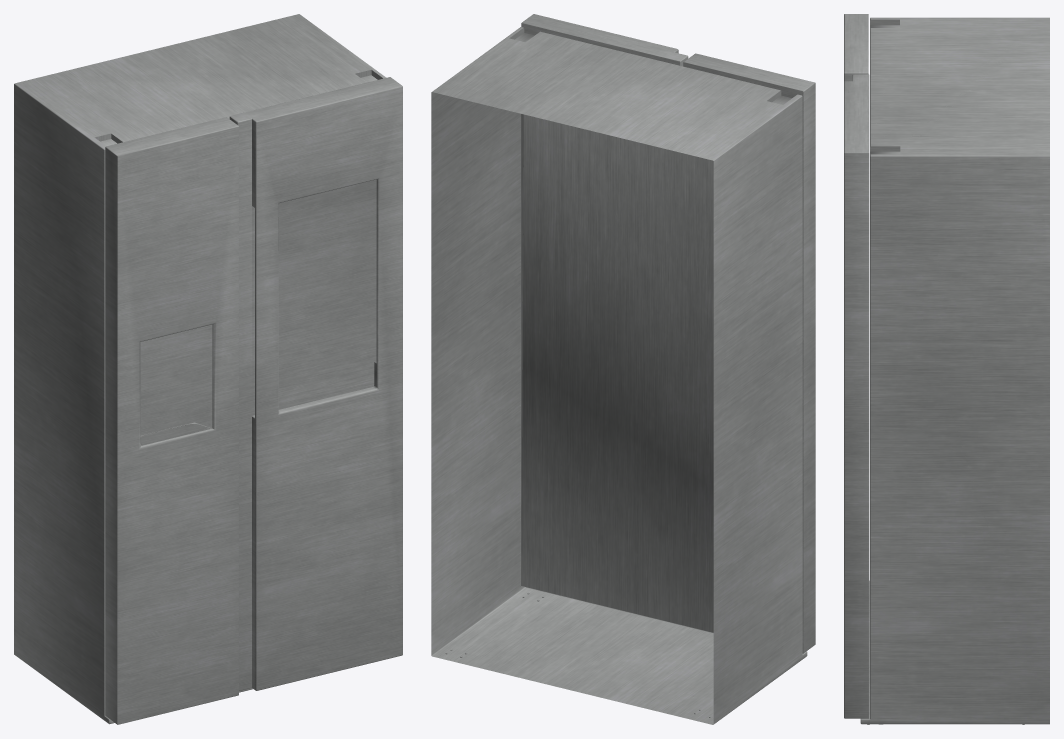
File: fridge.obj
3 renders of one model, left to right at view 1: azimuth 30°, elevation 25°; view 2: azimuth 150°, elevation 25°; view 3: azimuth 270°, elevation 25°, orthographic.
Visible parts, largest first — view 1: SamsungFamilyHub_Fridge.002; view 2: SamsungFamilyHub_Fridge.002; view 3: SamsungFamilyHub_Fridge.002.
Part boxes in pixels (bbox=[...]): SamsungFamilyHub_Fridge.002: bbox=[14, 14, 402, 724]; SamsungFamilyHub_Fridge.002: bbox=[431, 14, 815, 724]; SamsungFamilyHub_Fridge.002: bbox=[844, 14, 1049, 724].
Bounding box in the file's own units: 68.4 × 132 × 42.89.
